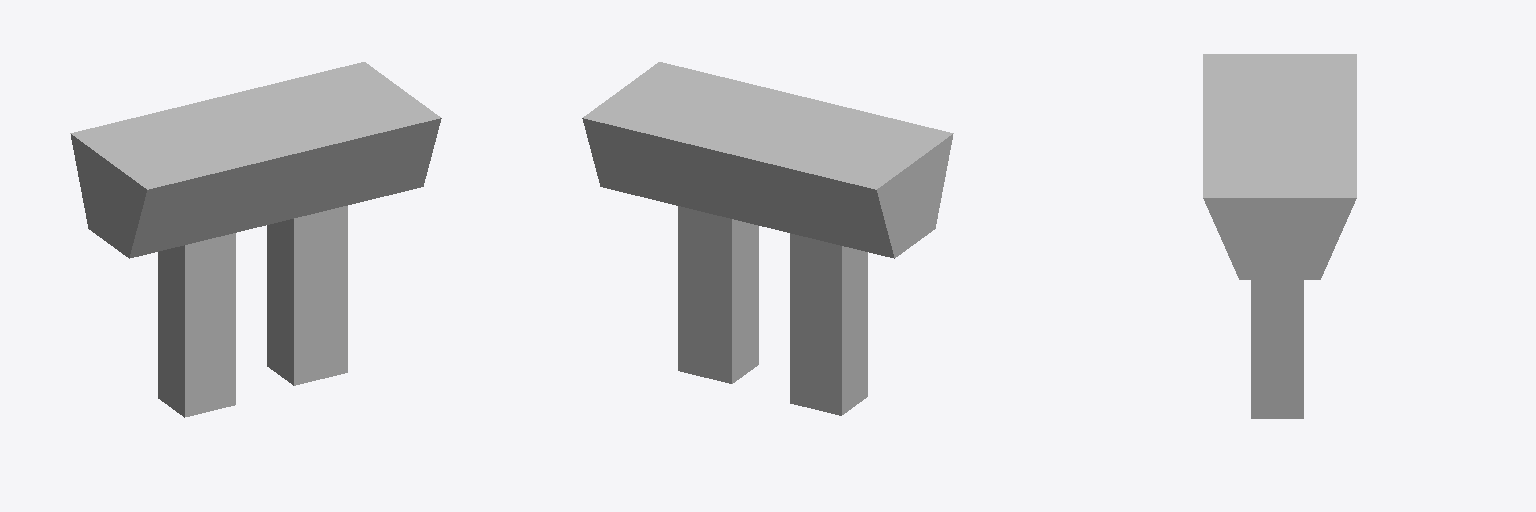
The model's file is proba.obj.
The picture shows the model from 3 angles: view 1: azimuth 30°, elevation 25°; view 2: azimuth 150°, elevation 25°; view 3: azimuth 270°, elevation 25°; orthographic projection.
Visible parts, largest first — view 1: Cube; view 2: Cube; view 3: Cube.
Boxes of the visible parts, x1,y1,x2,y2 form: Cube: [70, 62, 441, 417]; Cube: [582, 62, 953, 415]; Cube: [1203, 54, 1356, 418].
Size of the model in its own units: 4.4 by 3.73 by 2.